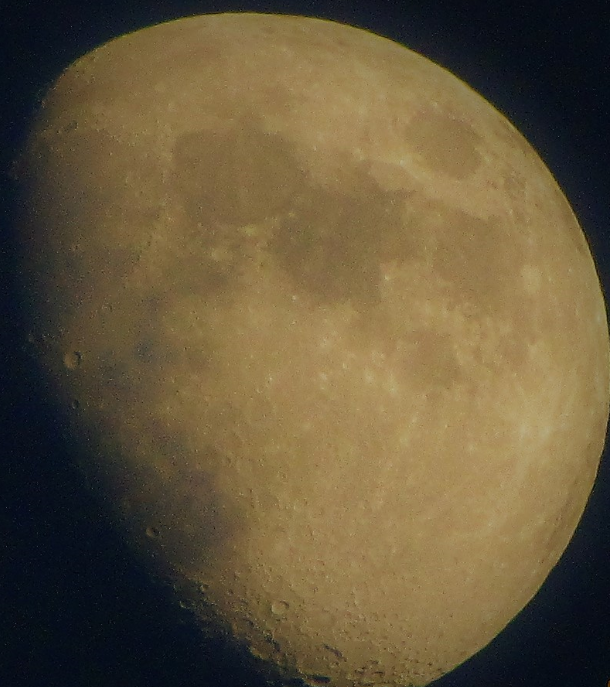crater: (494, 236, 559, 313), (237, 389, 285, 432), (52, 343, 106, 379), (136, 514, 172, 548), (233, 445, 263, 484), (266, 587, 296, 619), (145, 75, 181, 96), (95, 297, 123, 324), (64, 389, 97, 410), (307, 501, 331, 522), (162, 95, 184, 117), (410, 385, 437, 402), (391, 153, 410, 175), (437, 411, 453, 436), (284, 288, 304, 308), (377, 265, 395, 286), (213, 453, 232, 467)
